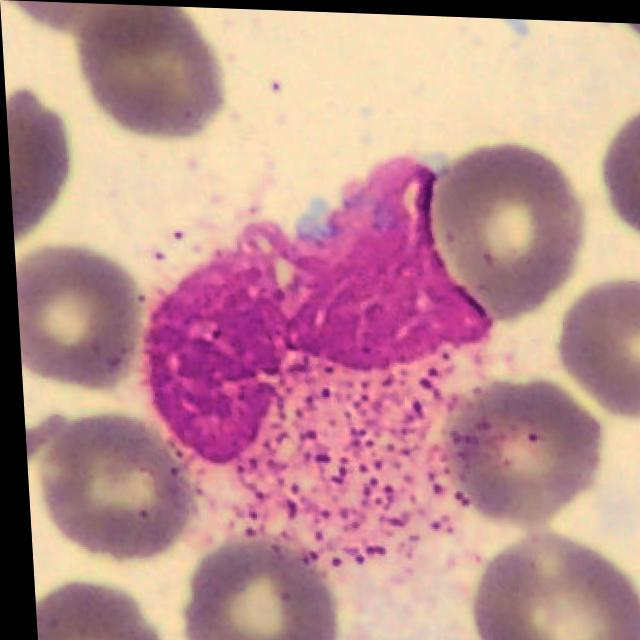Restos celulares: (138, 155, 489, 558)
